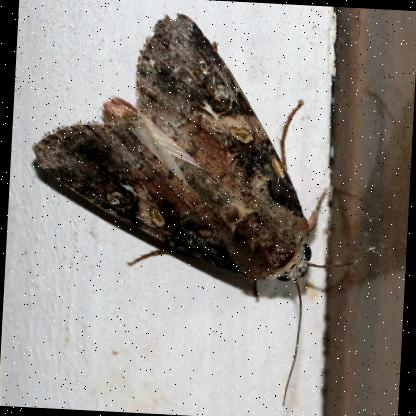Fall Armyworm Moth: (13, 1, 391, 414)
